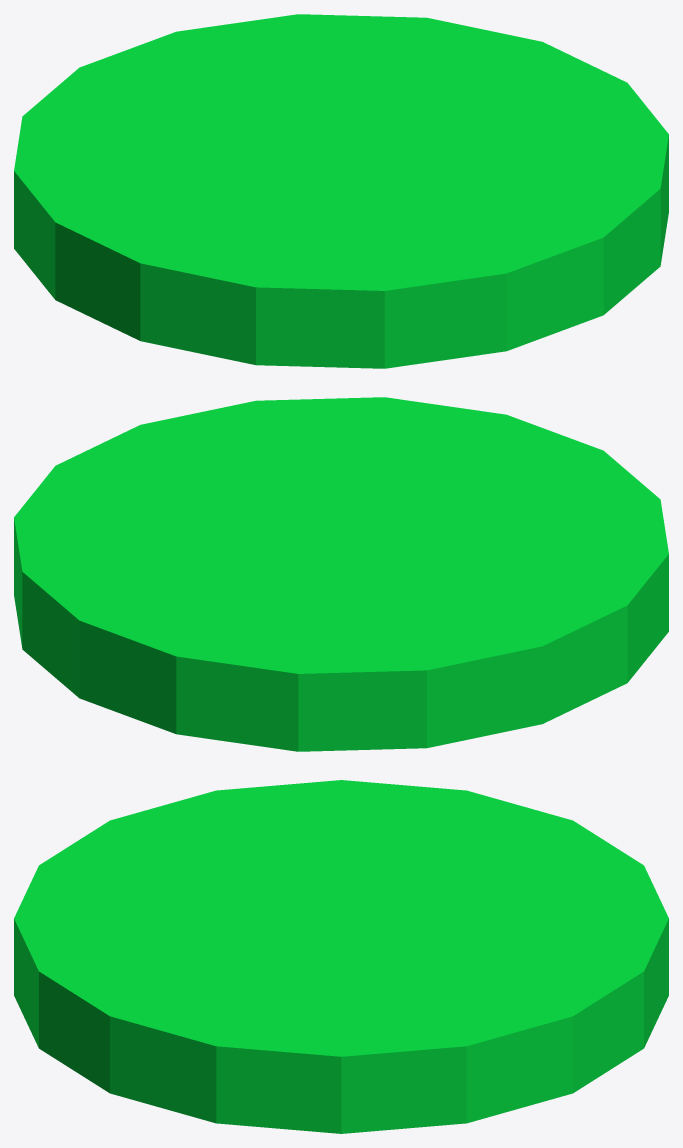
The model's file is button.gltf.
3 views of the same model, one above another, from view 1: azimuth 30°, elevation 25°; view 2: azimuth 150°, elevation 25°; view 3: azimuth 270°, elevation 25° (orthographic).
Parts seen in each view (by area): view 1: Cylinder; view 2: Cylinder; view 3: Cylinder.
Part boxes in pixels (bbox=[...]): Cylinder: bbox=[14, 14, 668, 368]; Cylinder: bbox=[14, 397, 668, 751]; Cylinder: bbox=[14, 780, 668, 1133].
Bounding box in the file's own units: 2 × 0.26 × 2.
